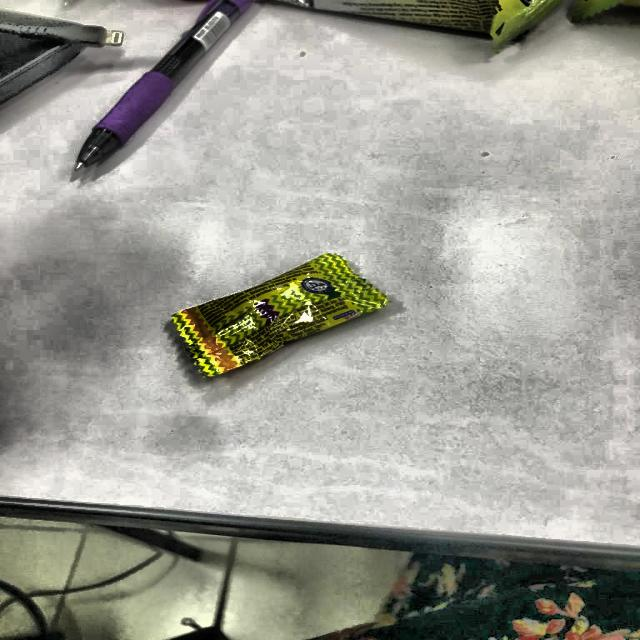Plastic: (169, 246, 388, 376)
